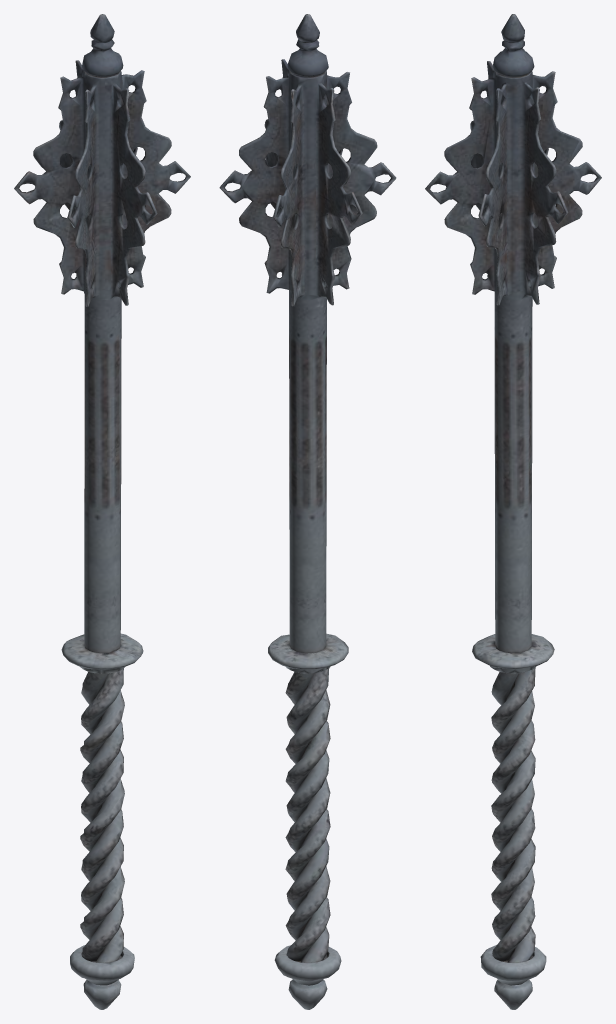
The model's file is ornate_medieval_mace.glb.
3 renders of one model, left to right at view 1: azimuth 30°, elevation 25°; view 2: azimuth 150°, elevation 25°; view 3: azimuth 270°, elevation 25°, orthographic.
Visible parts, largest first — view 1: ornate_medieval_mace; view 2: ornate_medieval_mace; view 3: ornate_medieval_mace.
Boxes of the visible parts, x1=… form: ornate_medieval_mace: x1=14, y1=14, x2=190, y2=1009; ornate_medieval_mace: x1=219, y1=14, x2=396, y2=1009; ornate_medieval_mace: x1=425, y1=14, x2=601, y2=1009.
Bounding box in the file's own units: 0.0949 × 0.6299 × 0.1015.
1 material, 1 textured.
